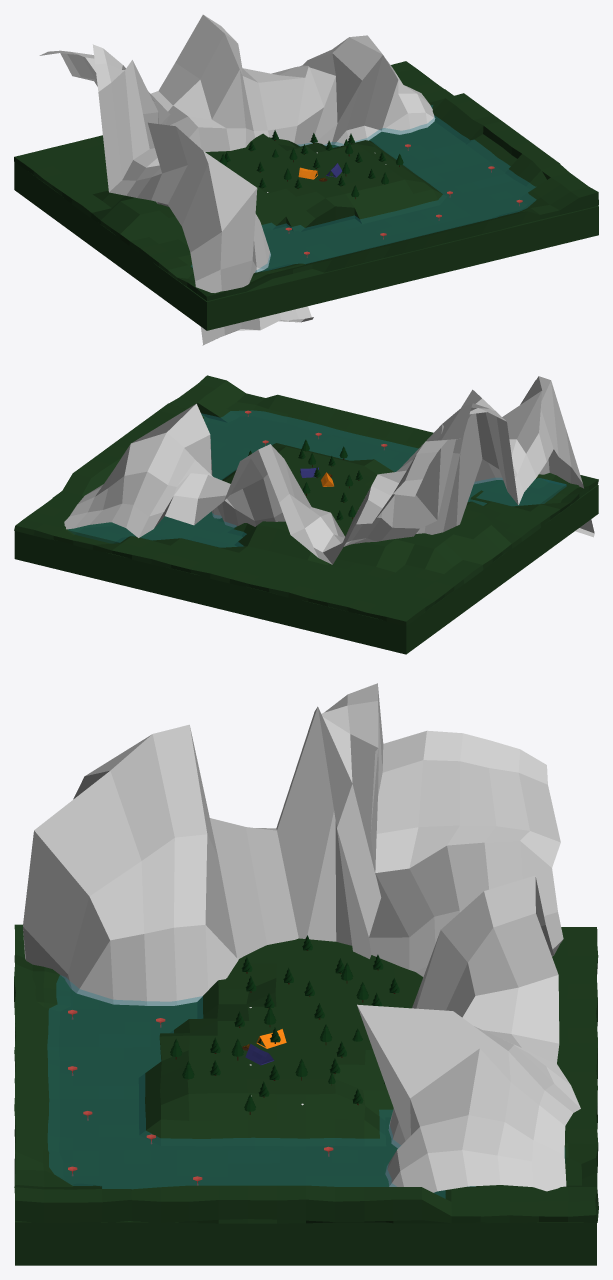
File: island.dae
3 renders of one model, top to bottom at view 1: azimuth 30°, elevation 25°; view 2: azimuth 150°, elevation 25°; view 3: azimuth 270°, elevation 25°, orthographic. The views are drawn at different scales.
Parts seen in each view (by area): view 1: Plane.1, Cube.1, Cube, Cube.2; view 2: Cube.1, Plane.1, Cube, Cube.2; view 3: Plane.1, Cube.1, Cube, Cube.2.
Part boxes in pixels (x1,y1,x2,y2): Plane.1: (39, 14, 435, 345); Cube.1: (14, 61, 598, 301); Cube: (14, 121, 598, 330); Cube.2: (191, 105, 536, 272); Cube.1: (14, 375, 598, 626); Plane.1: (64, 376, 594, 564); Cube: (14, 416, 598, 654); Cube.2: (68, 410, 566, 547); Plane.1: (23, 683, 580, 1192); Cube.1: (14, 924, 598, 1223); Cube: (15, 988, 596, 1265); Cube.2: (47, 975, 475, 1198).
Size of the model in its own units: 1419 by 746 by 1183.
